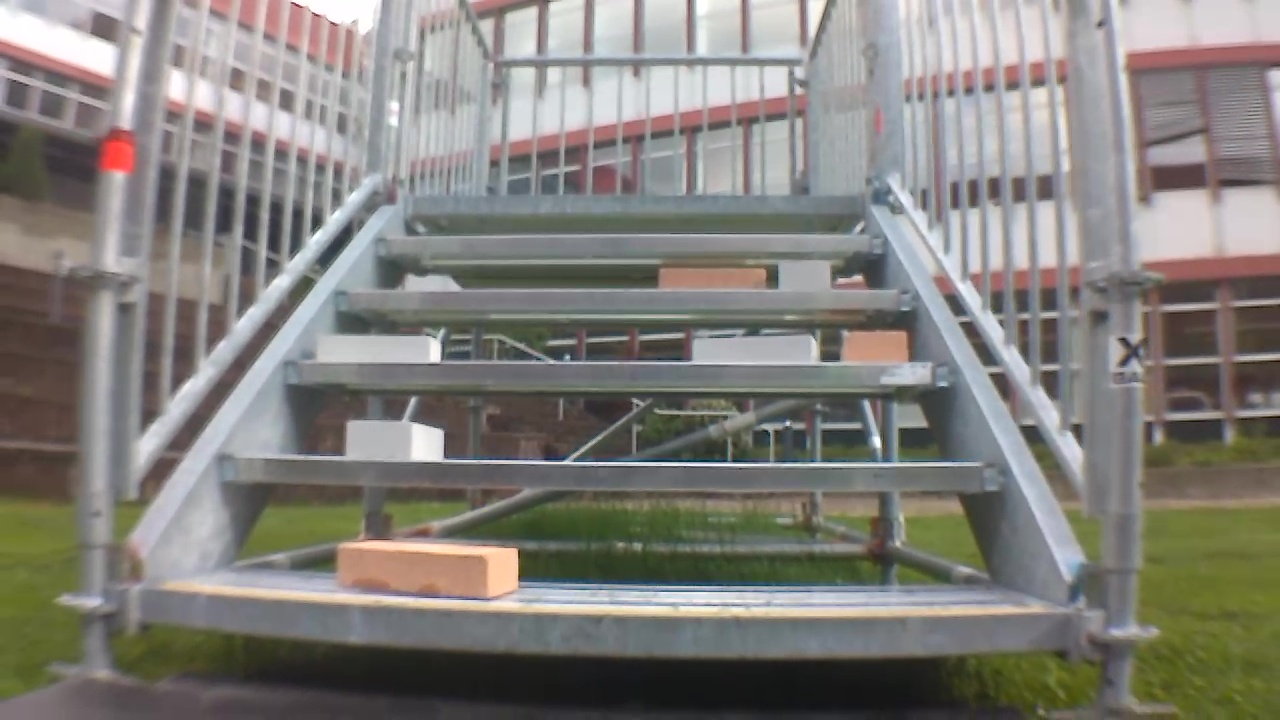brick: (338, 543, 518, 598), (346, 420, 443, 458), (694, 336, 818, 363), (318, 336, 441, 362), (659, 267, 766, 290), (845, 330, 906, 364), (778, 260, 830, 290)
edge: (143, 589, 1072, 656), (220, 456, 1011, 490), (287, 363, 953, 386), (334, 289, 921, 310), (409, 193, 861, 214), (379, 235, 884, 252)
stairs: (61, 4, 1158, 717)
steps: (125, 183, 1078, 668)
